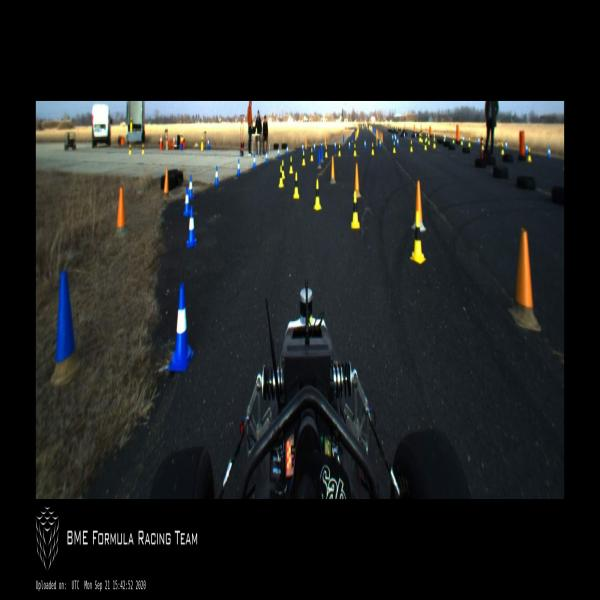blue_cone: (168, 284, 195, 374), (185, 205, 197, 249), (183, 185, 190, 219), (188, 175, 194, 201), (215, 166, 220, 186), (237, 159, 241, 177), (252, 154, 256, 170), (265, 149, 268, 164), (265, 150, 268, 164), (505, 139, 508, 150), (525, 144, 528, 154), (348, 140, 351, 149), (278, 147, 280, 159), (301, 144, 304, 152), (364, 138, 366, 150), (207, 138, 209, 149), (548, 148, 550, 158), (396, 136, 398, 146), (286, 146, 288, 155), (334, 141, 336, 150), (478, 136, 480, 145), (313, 142, 315, 150), (379, 139, 381, 147), (320, 143, 323, 148), (394, 133, 396, 139), (404, 131, 405, 138), (463, 135, 464, 142), (392, 134, 393, 140), (415, 132, 416, 138)
orange_cone: (159, 132, 163, 143), (173, 135, 175, 145)
unknown_cone: (50, 267, 82, 390), (509, 228, 542, 332), (411, 180, 427, 232), (114, 188, 128, 240), (353, 162, 361, 198), (330, 156, 336, 184), (164, 168, 169, 200), (318, 147, 321, 167), (321, 148, 323, 161), (305, 137, 307, 149), (343, 134, 344, 144)
yellow_cone: (411, 212, 426, 264), (352, 192, 360, 228), (313, 179, 322, 210), (294, 172, 300, 199), (279, 165, 283, 187), (289, 157, 294, 174), (302, 151, 306, 166), (310, 147, 314, 162), (282, 160, 285, 179), (528, 148, 531, 161), (393, 141, 396, 153), (410, 140, 413, 152), (501, 143, 504, 155), (338, 145, 341, 156), (433, 137, 436, 148), (468, 136, 471, 147), (371, 144, 374, 154), (424, 140, 427, 150), (420, 133, 423, 142), (425, 133, 428, 142), (354, 144, 356, 156), (452, 136, 455, 144), (142, 143, 144, 154), (325, 146, 327, 157), (129, 144, 131, 154), (201, 136, 203, 146), (482, 140, 484, 150), (461, 136, 463, 145), (428, 136, 430, 145), (180, 133, 182, 141), (419, 134, 421, 142), (130, 118, 132, 124)
